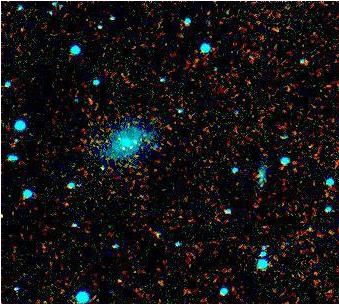star: (102, 268, 132, 298)
